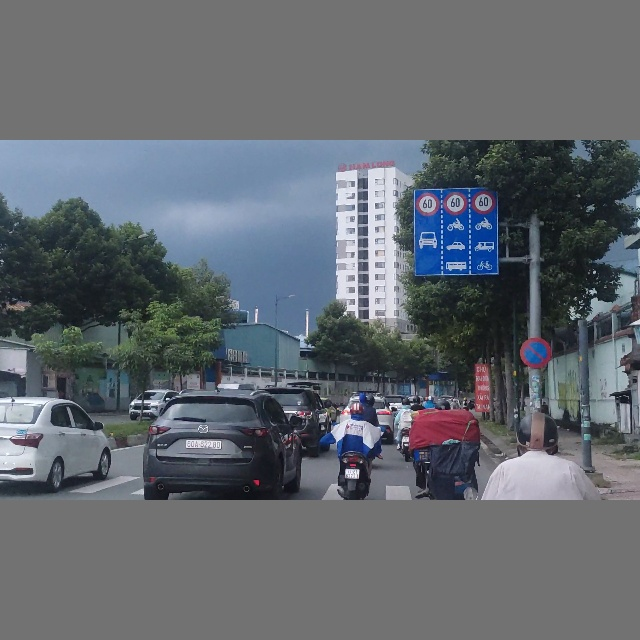P.127*60: (444, 192, 467, 215), (417, 193, 439, 216), (472, 191, 494, 214)
P.131a: (519, 338, 551, 367)
R.415a: (414, 217, 499, 275)
